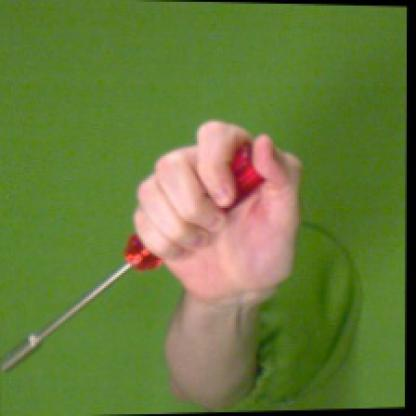Hand: (134, 119, 303, 301)
